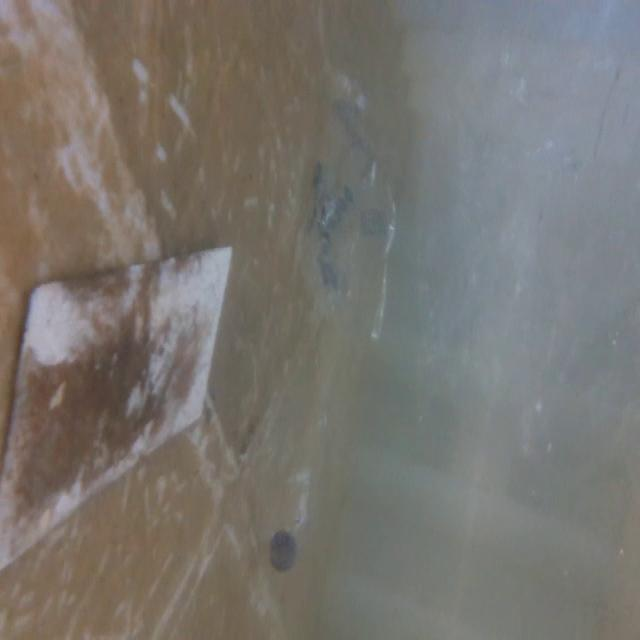plastic bags: (301, 63, 399, 348)
